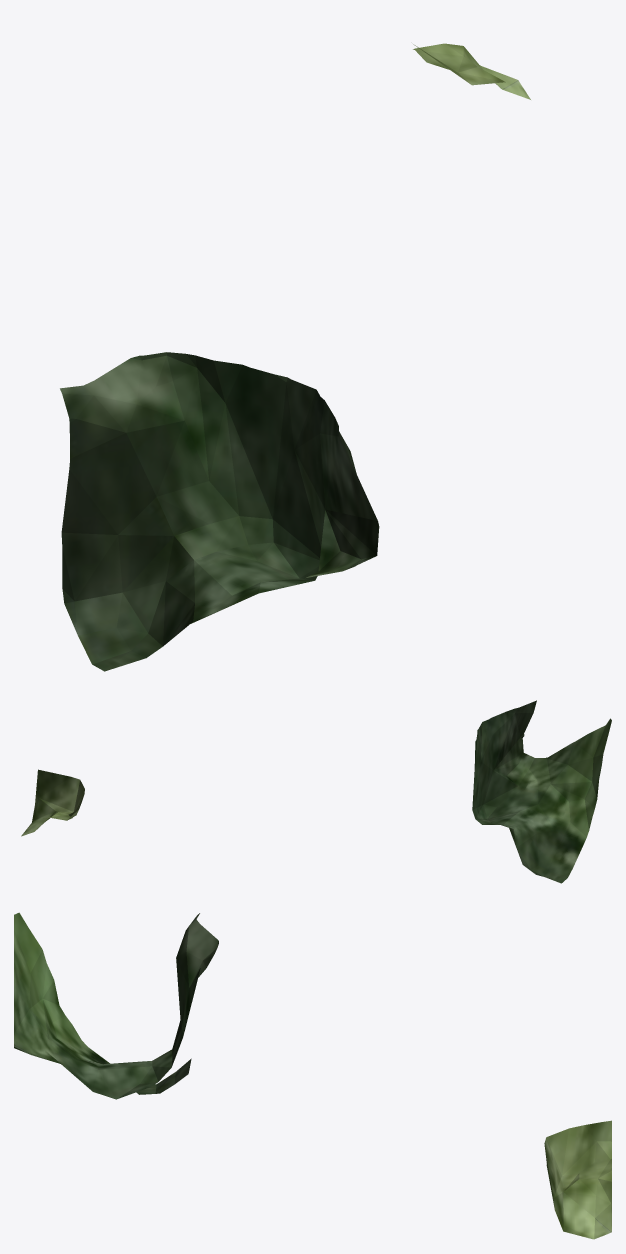
3 views of the same model, one above another, from view 1: azimuth 30°, elevation 25°; view 2: azimuth 150°, elevation 25°; view 3: azimuth 270°, elevation 25° (orthographic). The views are drawn at different scales.
Bounding box in the file's own units: 2.95 × 0.9352 × 2.95.
1 material, 1 textured.
